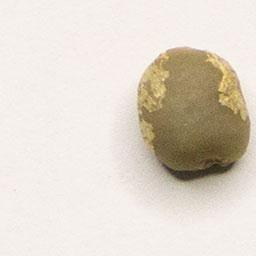peaberry: (132, 43, 256, 178)
